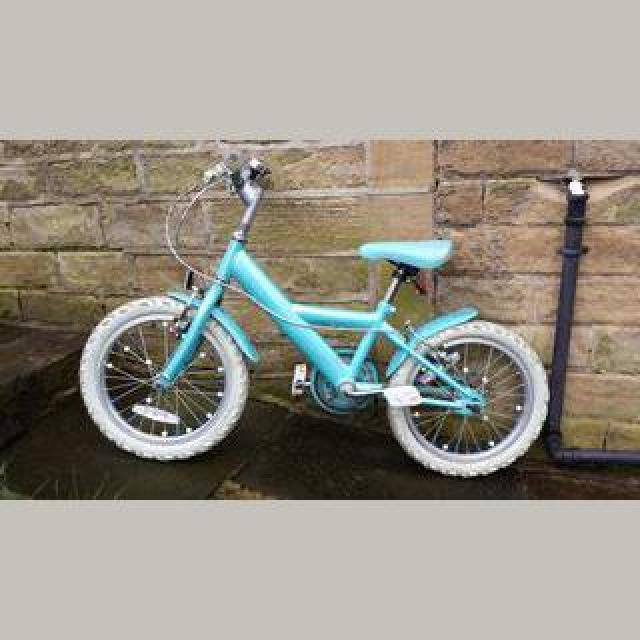Person: (80, 144, 548, 478)
